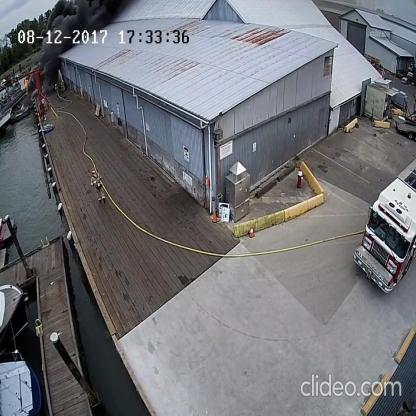fire: (23, 77, 30, 90)
